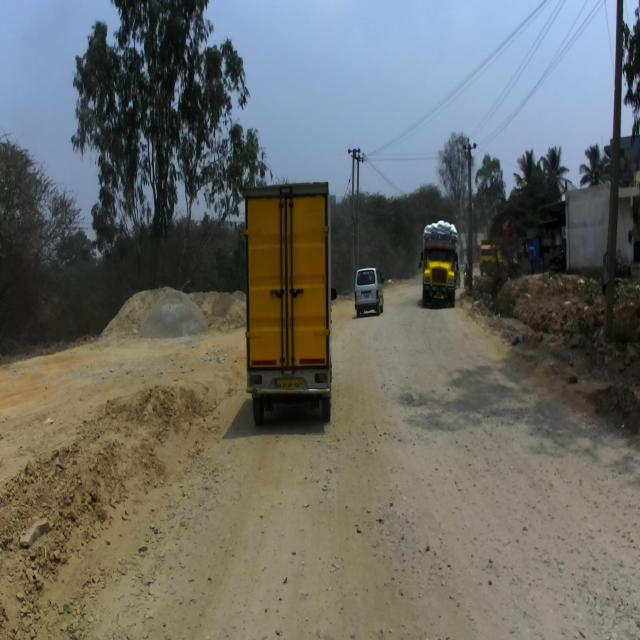car ahead at: (349, 269, 384, 319)
truck ahead at: (238, 176, 334, 419), (418, 220, 463, 311)
